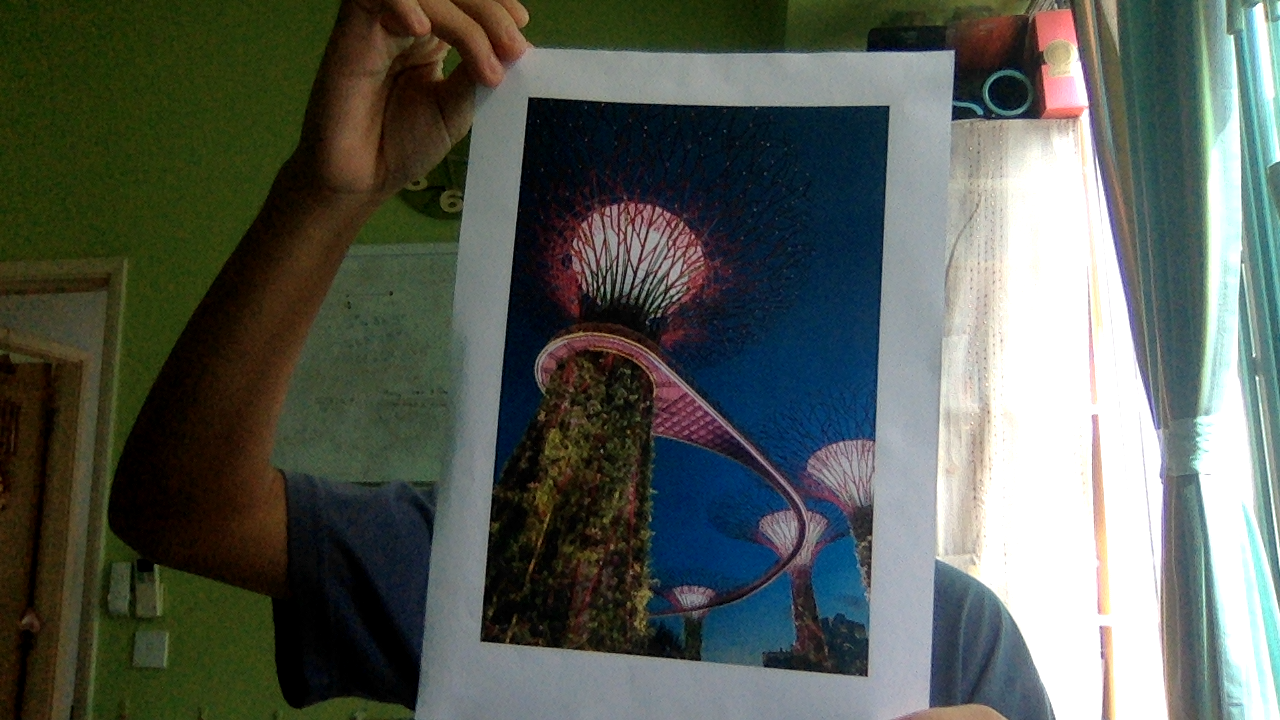GBTB: (471, 89, 901, 698)
